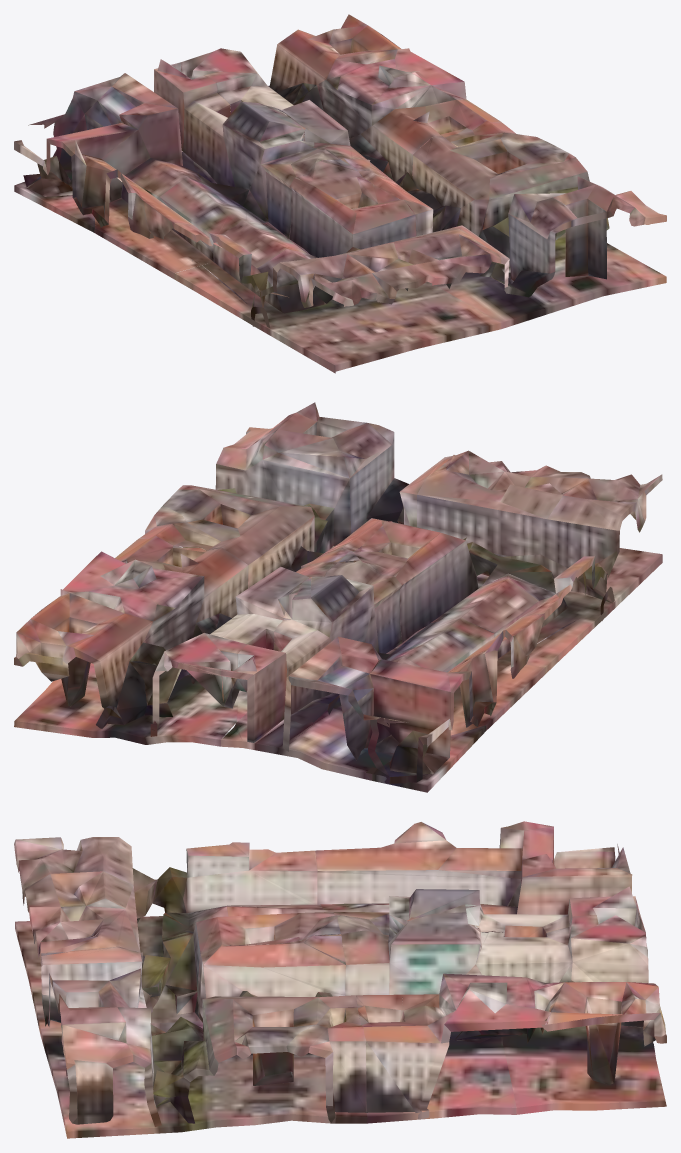
The picture shows the model from 3 angles, top to bottom: view 1: azimuth 30°, elevation 25°; view 2: azimuth 150°, elevation 25°; view 3: azimuth 270°, elevation 25°; orthographic projection. The views are drawn at different scales.
Parts seen in each view (by area): view 1: Mesh_0; view 2: Mesh_0; view 3: Mesh_0.
Boxes of the visible parts, x1,y1,x2,y2 form: Mesh_0: (14, 14, 666, 373); Mesh_0: (14, 402, 662, 792); Mesh_0: (14, 821, 666, 1138).
Size of the model in its own units: 133 by 32.96 by 165.
1 material, 1 textured.
